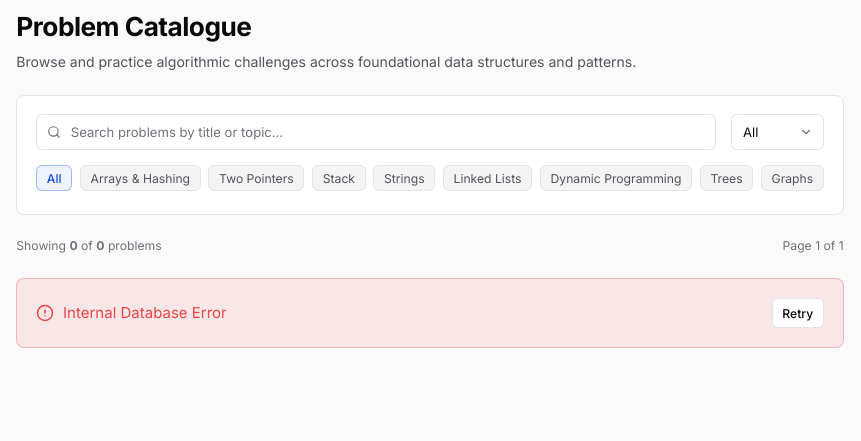
Problem Browsing & Management Experience › Problem Catalogue (ProblemsPage) › renders error state when backend API fails and allows retry
Expected: the text "Internal Database Error" is shown, [63,302,227,324]
Click the button "Retry".
click(798, 313)  # box [772,298,824,328]
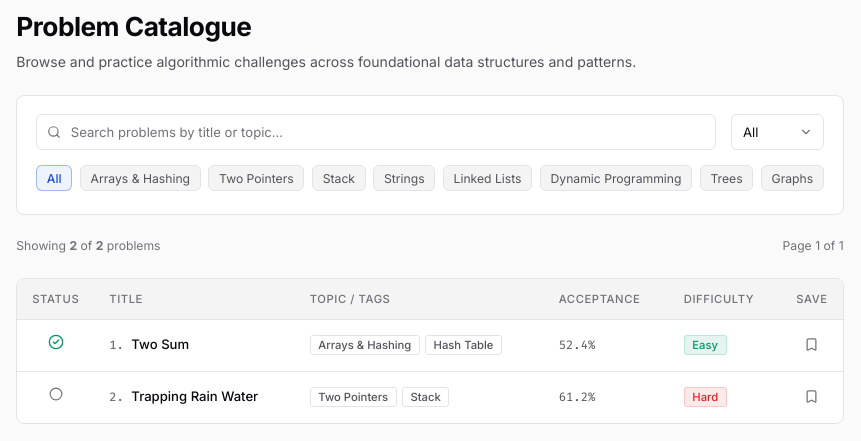
Now the text "Two Sum" is shown, box [131,335,189,355]
